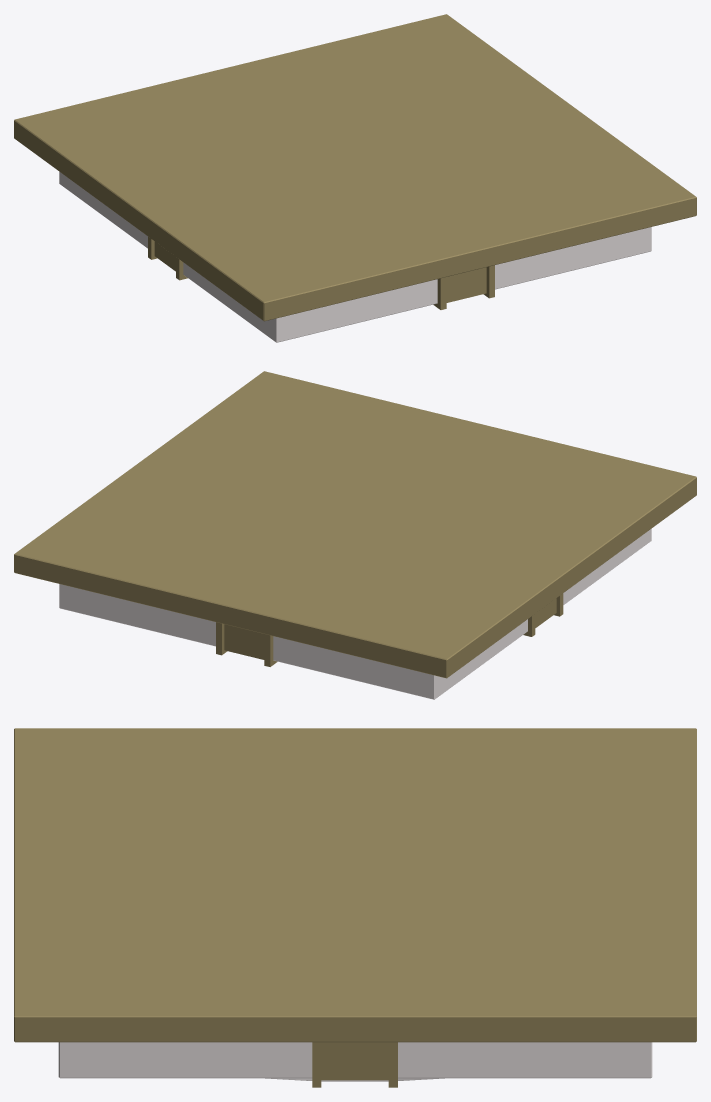
3 views of the same model, one above another, from view 1: azimuth 30°, elevation 25°; view 2: azimuth 150°, elevation 25°; view 3: azimuth 270°, elevation 25° (orthographic). The views are drawn at different scales.
Parts seen in each view (by area): view 1: Rectangle03, Rectangle04, Rectangle12, Rectangle11; view 2: Rectangle03, Rectangle04, Rectangle10, Rectangle09; view 3: Rectangle03, Rectangle04, Rectangle01, Rectangle06.
Boxes of the visible parts, left/top/right/bottom form: Rectangle03: left=14, top=14, right=696, bottom=321; Rectangle04: left=59, top=172, right=651, bottom=342; Rectangle12: left=446, top=267, right=486, bottom=302; Rectangle11: left=433, top=265, right=494, bottom=309; Rectangle03: left=14, top=371, right=696, bottom=678; Rectangle04: left=59, top=529, right=651, bottom=699; Rectangle10: left=224, top=624, right=264, bottom=659; Rectangle09: left=216, top=622, right=277, bottom=666; Rectangle03: left=14, top=728, right=696, bottom=1042; Rectangle04: left=58, top=1042, right=652, bottom=1078; Rectangle01: left=321, top=1042, right=388, bottom=1080; Rectangle06: left=312, top=1042, right=397, bottom=1087.
Bounding box in the file's own units: 587 × 126 × 587.
